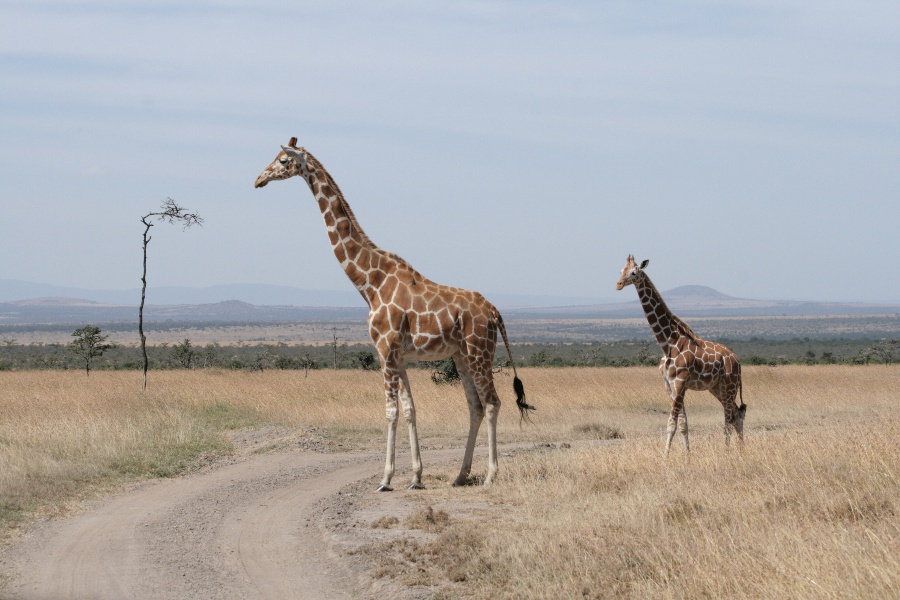giraffe: (251, 131, 507, 492), (611, 250, 751, 468)
